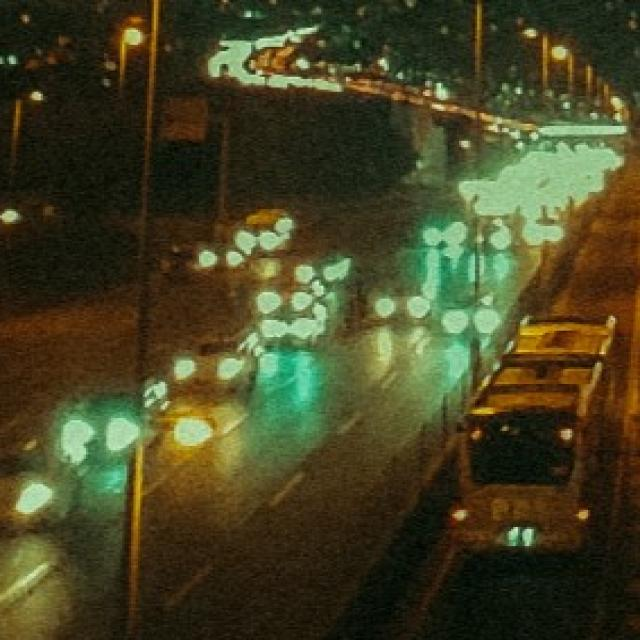bus: (452, 313, 620, 562)
car: (53, 391, 147, 472), (0, 450, 77, 533), (168, 334, 253, 394)
